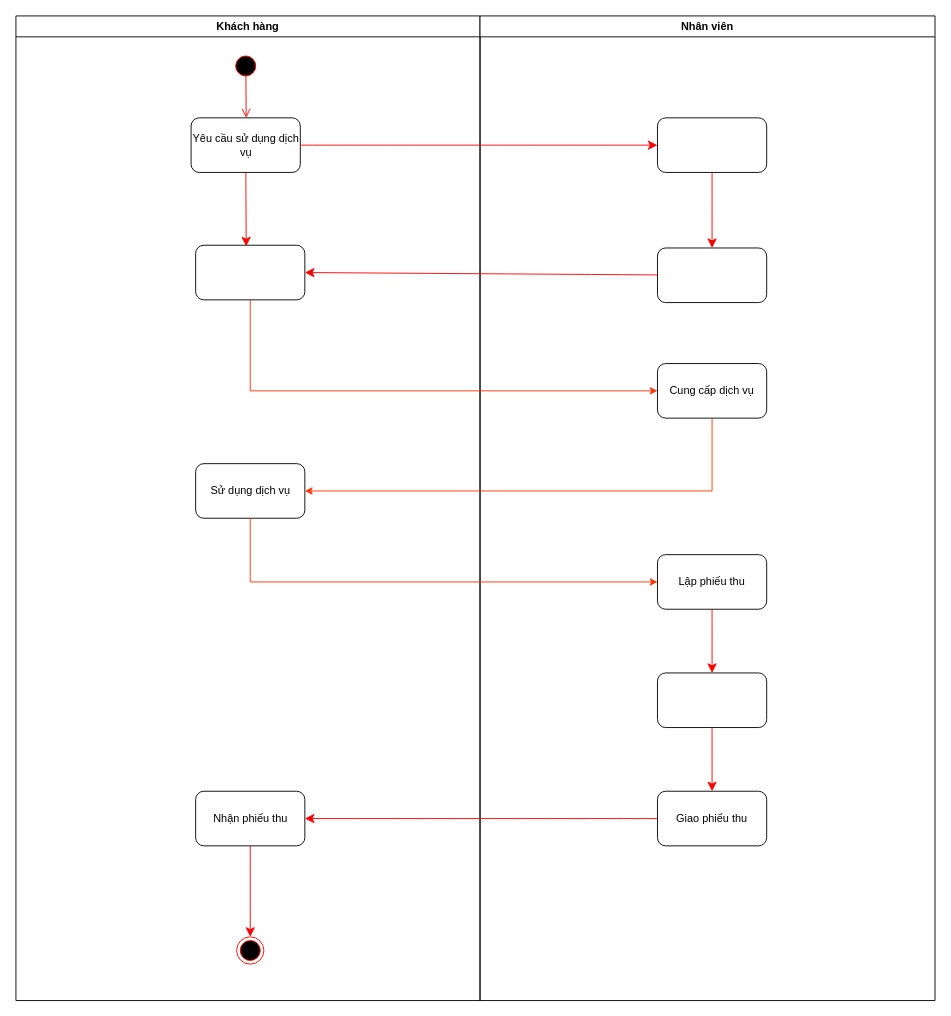
Image size: 951x1016. Some labels were removed from this diagram. Here are the shapes that lost their labels. From the top down, the centre of each, then its label:
the point at 712,144: Cung cấp danh sách dịch vụ
the point at 250,272: Chọn dịch vụ
the point at 712,275: Cung cấp thông tin dịch vụ
the point at 712,700: In và sao lưu
